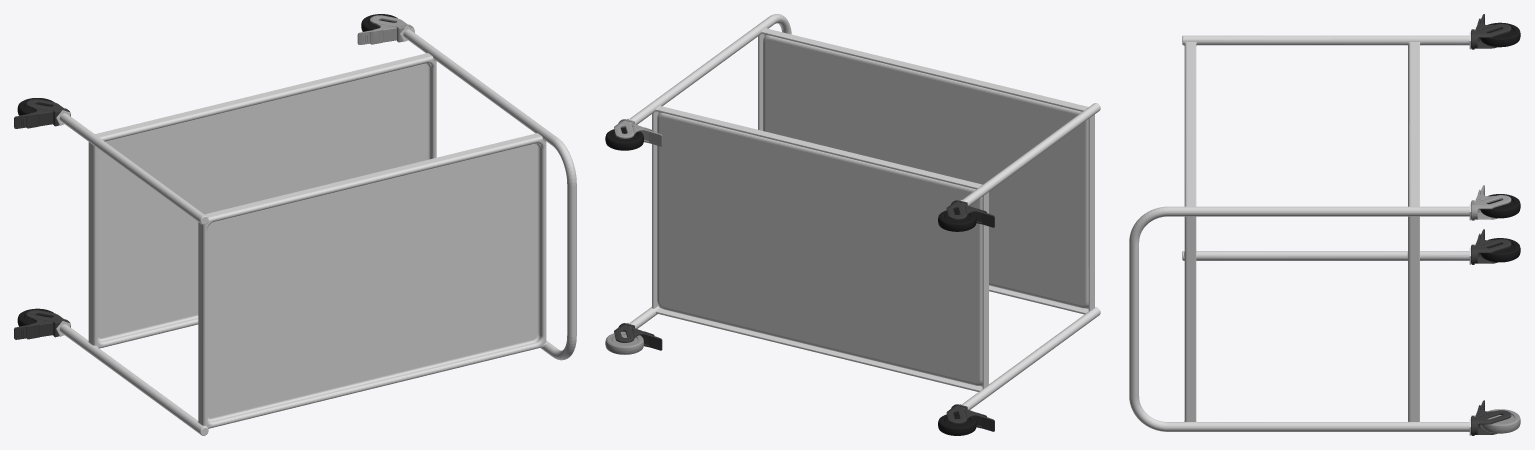
Rendered from trolley_instrument_b01.glb.
The picture shows the model from 3 angles, left to right: view 1: azimuth 30°, elevation 25°; view 2: azimuth 150°, elevation 25°; view 3: azimuth 270°, elevation 25°; orthographic projection. The views are drawn at different scales.
Parts seen in each view (by area): view 1: body_01_mesh_00_7, wheel_01_mesh_00_3, wheel_03_mesh_00_1, wheel_04_mesh_00_0; view 2: body_01_mesh_00_7, wheel_01_mesh_00_3, wheel_02_mesh_00_5, wheel_03_mesh_00_1, wheel_04_mesh_00_0, tire_02_mesh_00_2, tire_01_mesh_00_6, tire_03_mesh_00_8, tire_04_mesh_00_4; view 3: body_01_mesh_00_7, wheel_01_mesh_00_3, wheel_04_mesh_00_0, wheel_02_mesh_00_5, wheel_03_mesh_00_1, tire_02_mesh_00_2, tire_04_mesh_00_4, tire_01_mesh_00_6, tire_03_mesh_00_8.
Part boxes in pixels (box(x1,y1,x2,y2)): body_01_mesh_00_7: box(56, 26, 576, 435); wheel_01_mesh_00_3: box(357, 15, 414, 44); wheel_03_mesh_00_1: box(14, 99, 70, 128); wheel_04_mesh_00_0: box(14, 310, 70, 339); body_01_mesh_00_7: box(627, 14, 1100, 409); wheel_01_mesh_00_3: box(614, 119, 662, 146); wheel_02_mesh_00_5: box(614, 323, 662, 350); wheel_03_mesh_00_1: box(946, 200, 994, 227); wheel_04_mesh_00_0: box(946, 404, 994, 431); tire_02_mesh_00_2: box(605, 331, 643, 354); tire_01_mesh_00_6: box(605, 127, 643, 150); tire_03_mesh_00_8: box(938, 208, 976, 231); tire_04_mesh_00_4: box(938, 413, 976, 435); body_01_mesh_00_7: box(1129, 32, 1470, 435); wheel_01_mesh_00_3: box(1471, 185, 1511, 220); wheel_04_mesh_00_0: box(1471, 229, 1511, 264); wheel_02_mesh_00_5: box(1471, 400, 1511, 435); wheel_03_mesh_00_1: box(1471, 14, 1511, 49); tire_02_mesh_00_2: box(1480, 409, 1520, 433); tire_04_mesh_00_4: box(1480, 238, 1520, 262); tire_01_mesh_00_6: box(1480, 194, 1520, 218); tire_03_mesh_00_8: box(1480, 22, 1520, 47).
Size of the model in its own units: 1.06 by 0.5784 by 0.8895.
Materials: 5 (2 with a texture image).
